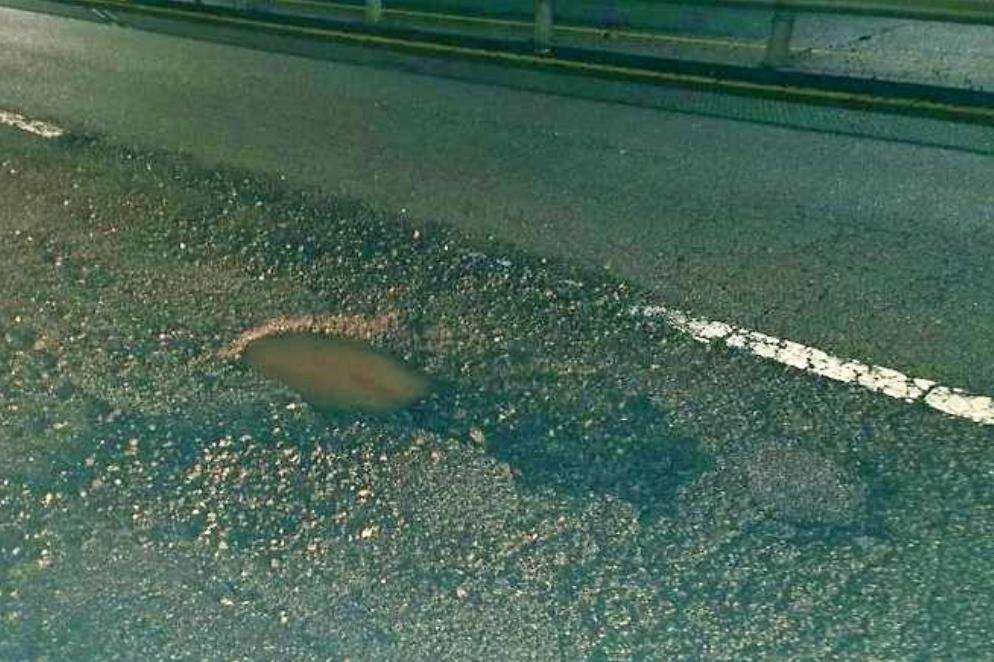pothole: (226, 294, 429, 433)
